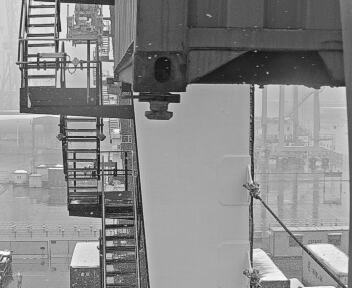twist_lock_1: (128, 154, 169, 189)
